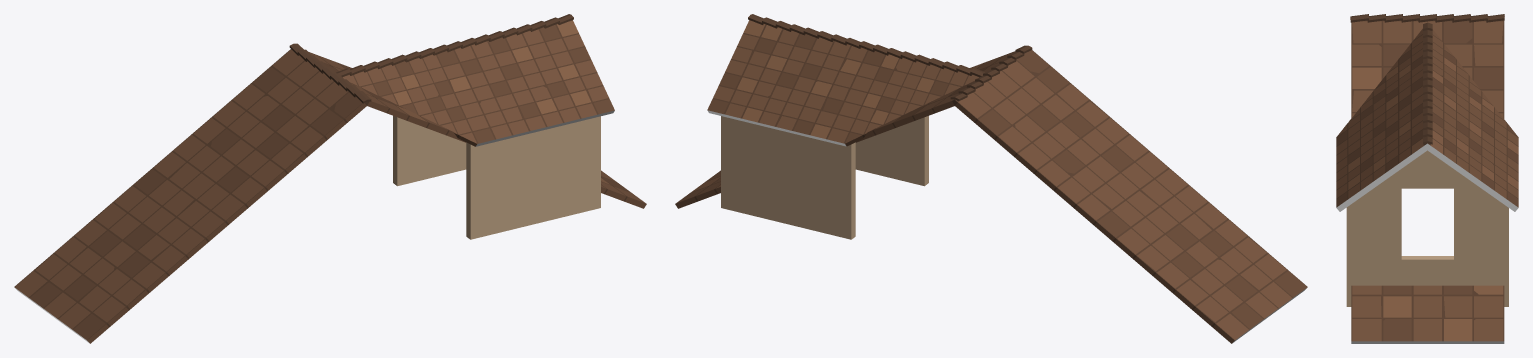
File: Roof4_C9_05.fbx
The picture shows the model from 3 angles, left to right: view 1: azimuth 30°, elevation 25°; view 2: azimuth 150°, elevation 25°; view 3: azimuth 270°, elevation 25°; orthographic projection. The views are drawn at different scales.
Parts seen in each view (by area): view 1: Roof4_C9_05; view 2: Roof4_C9_05; view 3: Roof4_C9_05.
Boxes of the visible parts, <box> form: Roof4_C9_05: <box>14,14,646,343</box>; Roof4_C9_05: <box>675,14,1307,343</box>; Roof4_C9_05: <box>1336,14,1518,343</box>.
Bounding box in the file's own units: 1105 × 338 × 298.
